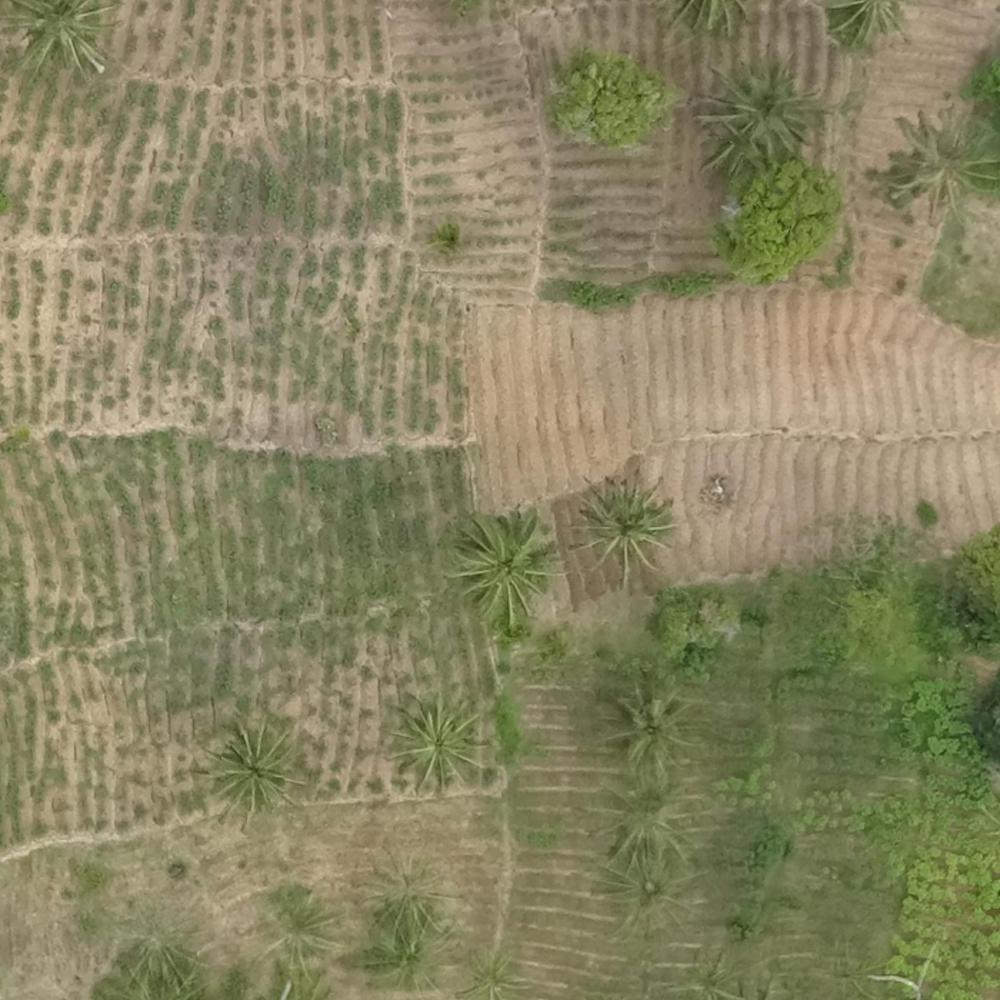Palm: (701, 60, 819, 159), (450, 511, 554, 619), (891, 107, 993, 209), (1, 1, 117, 88), (577, 476, 676, 573), (388, 690, 487, 781), (601, 768, 698, 857), (598, 682, 695, 765), (211, 722, 297, 810)
